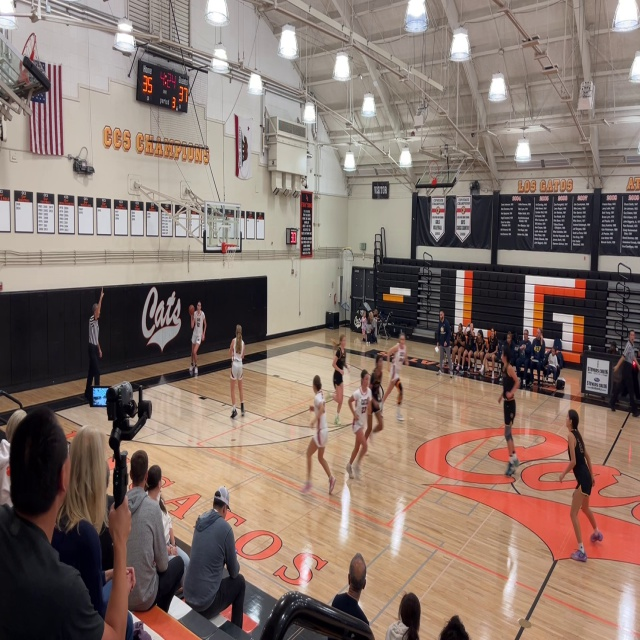Basketball: (188, 305, 195, 314)
